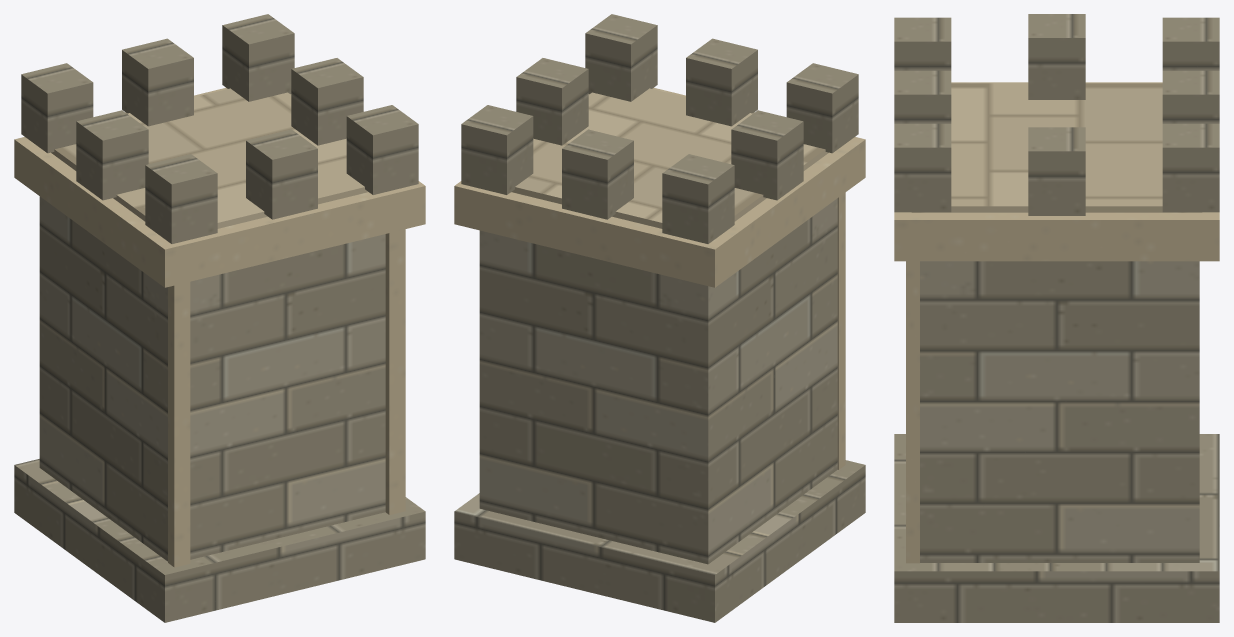
Rendered from wall-corner-tower.glb.
3 views of the same model, side by side, from view 1: azimuth 30°, elevation 25°; view 2: azimuth 150°, elevation 25°; view 3: azimuth 270°, elevation 25° (orthographic). The views are drawn at different scales.
Visible parts, largest first — view 1: Building_Body.001; view 2: Building_Body.001; view 3: Building_Body.001.
Part boxes in pixels (<box>): Building_Body.001: <box>14,14,425,622</box>; Building_Body.001: <box>454,14,865,622</box>; Building_Body.001: <box>894,14,1219,622</box>.
Size of the model in its own units: 1.14 by 1.83 by 1.14.
1 material, 1 textured.
